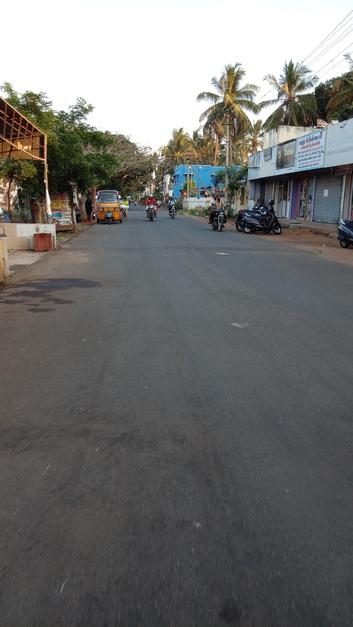speed-bump: (55, 244, 318, 253)
